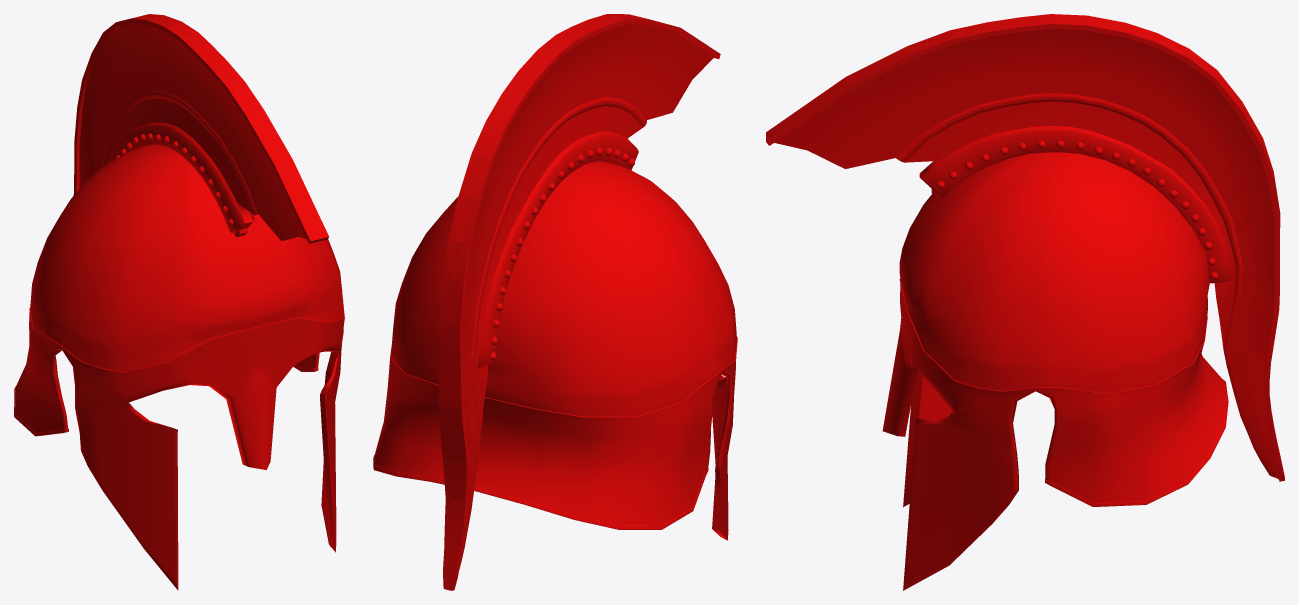
The model's file is Greek_Helmet_ColorID.fbx.
3 views of the same model, side by side, from view 1: azimuth 30°, elevation 25°; view 2: azimuth 150°, elevation 25°; view 3: azimuth 270°, elevation 25° (orthographic). The views are drawn at different scales.
Parts seen in each view (by area): view 1: Greek_Helmet_Color_ID; view 2: Greek_Helmet_Color_ID; view 3: Greek_Helmet_Color_ID.
Part boxes in pixels (x1,y1,x2,y2): Greek_Helmet_Color_ID: (14,14,344,590); Greek_Helmet_Color_ID: (373,14,737,590); Greek_Helmet_Color_ID: (766,14,1284,590).
Bounding box in the file's own units: 27.53 × 46.5 × 41.24.
